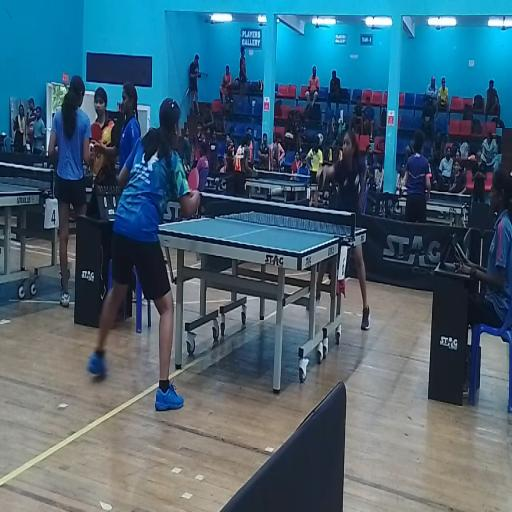ball: (271, 186, 282, 197)
